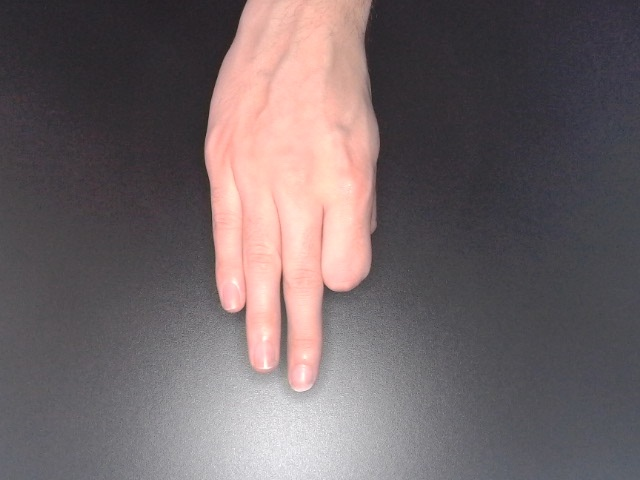m: (197, 3, 386, 399)
